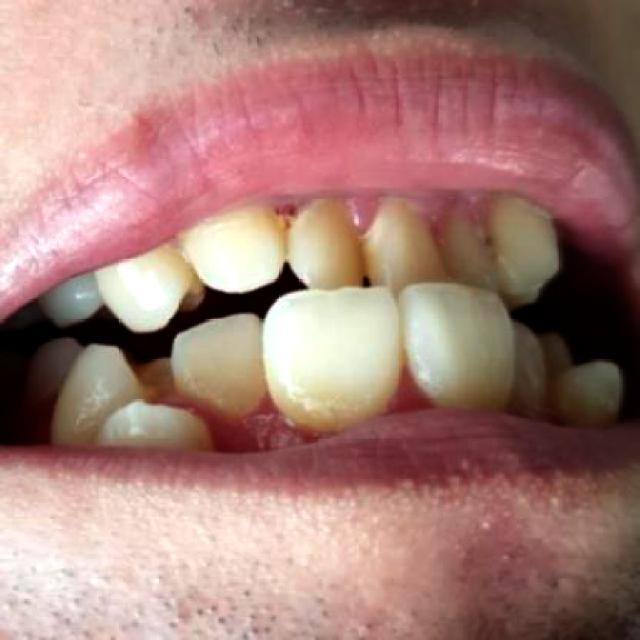Plaque: (217, 403, 306, 449), (336, 179, 396, 236), (400, 188, 455, 243), (384, 365, 437, 412), (273, 197, 322, 237)
